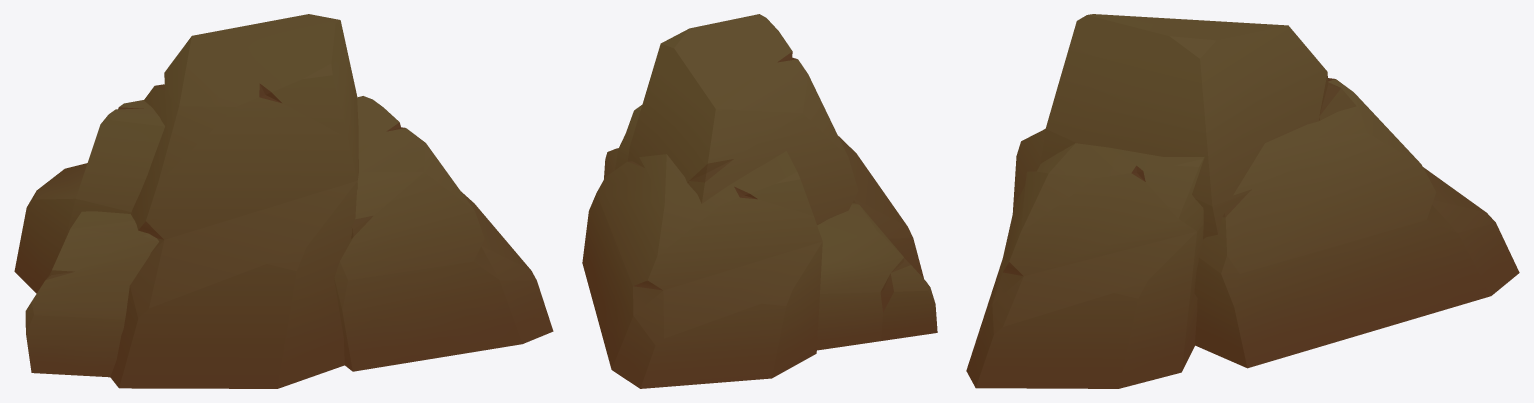
File: Forest_Rocks_2.glb
The picture shows the model from 3 angles, left to right: view 1: azimuth 30°, elevation 25°; view 2: azimuth 150°, elevation 25°; view 3: azimuth 270°, elevation 25°; orthographic projection. The views are drawn at different scales.
Visible parts, largest first — view 1: Object_30.002; view 2: Object_30.002; view 3: Object_30.002.
Part boxes in pixels (x1=…): Object_30.002: x1=14, y1=14, x2=553, y2=388; Object_30.002: x1=582, y1=14, x2=937, y2=388; Object_30.002: x1=966, y1=14, x2=1519, y2=388.
Bounding box in the file's own units: 93.38 × 58.7 × 99.11.
